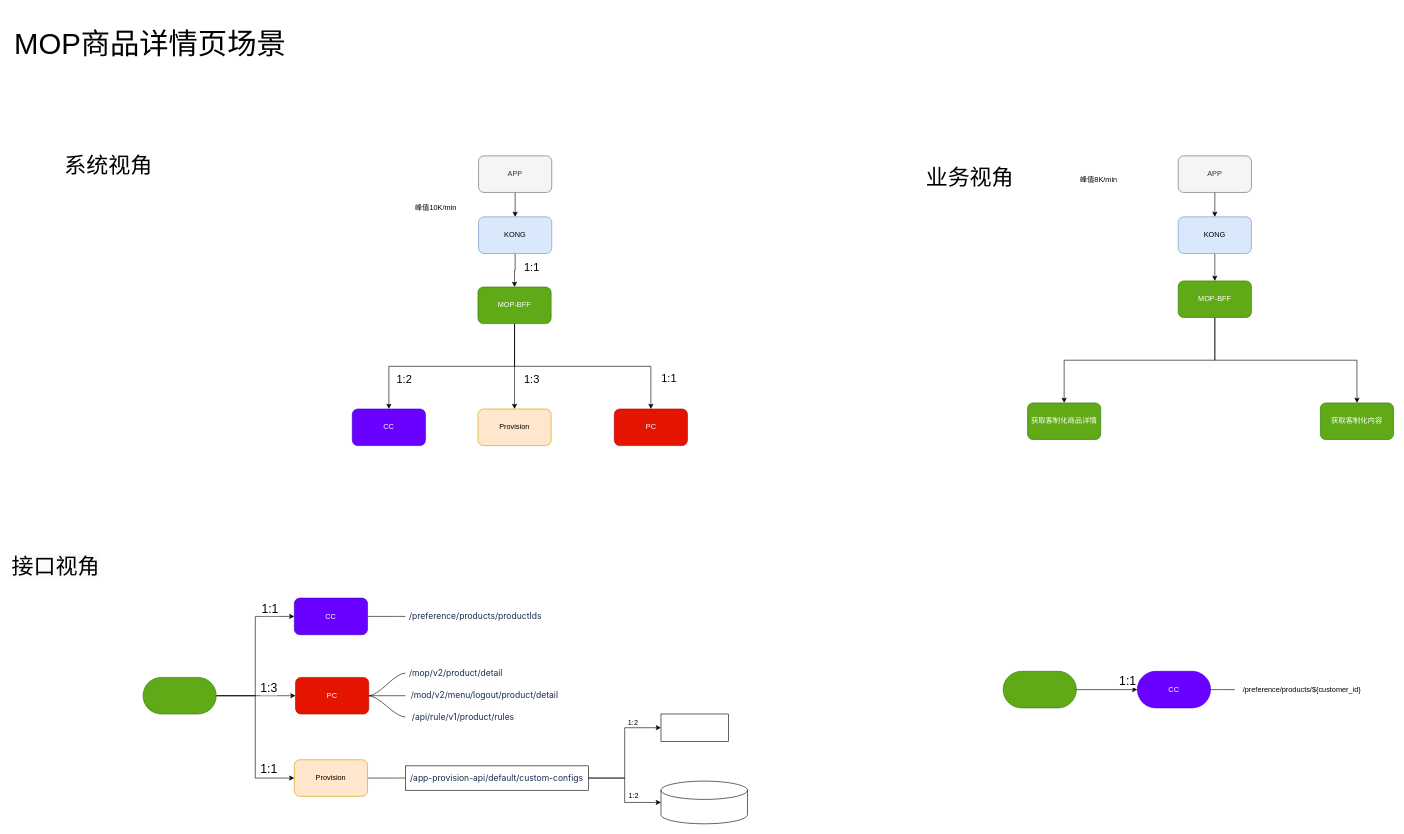
This 1404x834 diagram has some shape labels left out. Each missing label, with the centre of its shape:
"Caffeine" belongs at point (694, 727).
"Couchbase" belongs at point (703, 802).
"获取客制化内容 /mop/v1/preference/product/get" belongs at point (1039, 689).
"获取客制化商品详情 /mop/v4/customization/product" belongs at point (179, 695).
